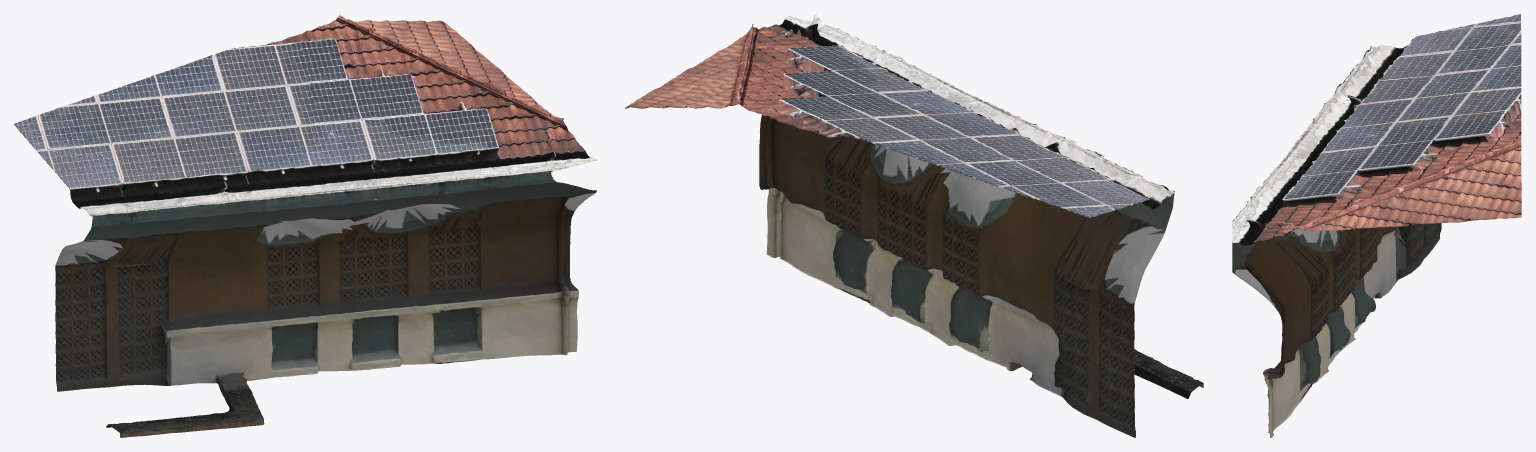
3 renders of one model, left to right at view 1: azimuth 30°, elevation 25°; view 2: azimuth 150°, elevation 25°; view 3: azimuth 270°, elevation 25°, orthographic. The views are drawn at different scales.
Parts seen in each view (by area): view 1: node_183; view 2: node_183; view 3: node_183.
Part boxes in pixels (bbox=[...]): node_183: bbox=[14, 14, 596, 437]; node_183: bbox=[625, 14, 1203, 437]; node_183: bbox=[1232, 14, 1521, 437].
Size of the model in its own units: 8.98 by 5.31 by 5.49.
1 material, 1 textured.
